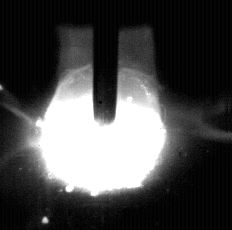arame: (94, 0, 118, 124)
poca: (41, 0, 167, 230)
